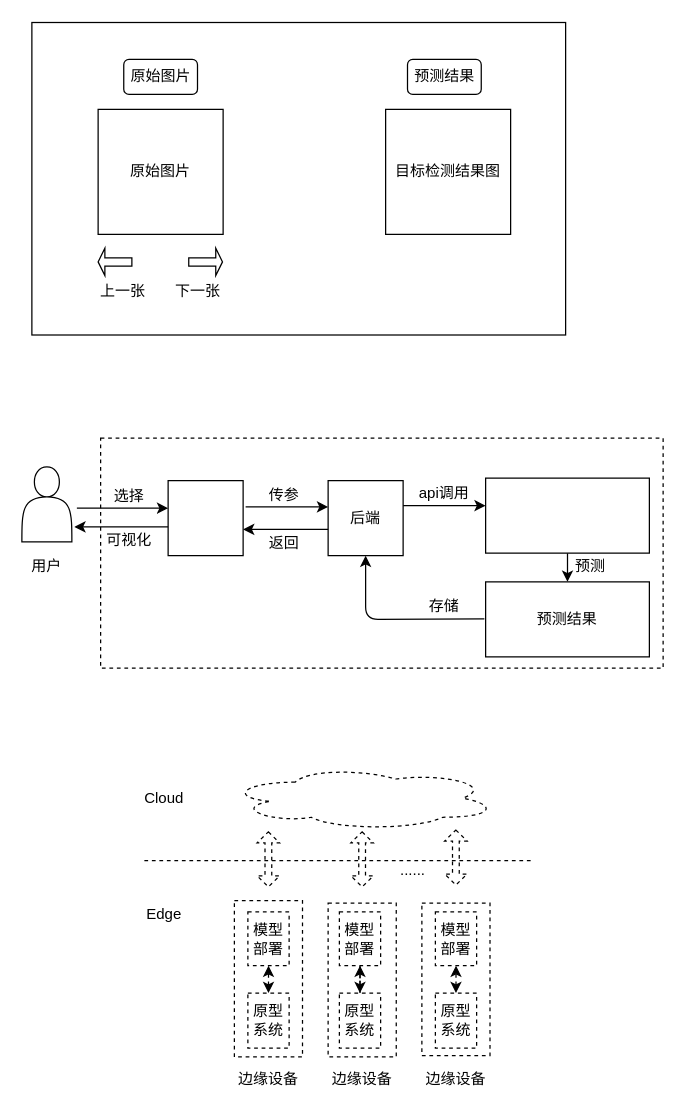
This 685x1116 diagram has some shape labels left out. Each missing label, with the box of its shape:
yolov4模型: (484, 477, 649, 553)
图片: (167, 479, 243, 556)
模型训练库: (227, 765, 497, 830)
